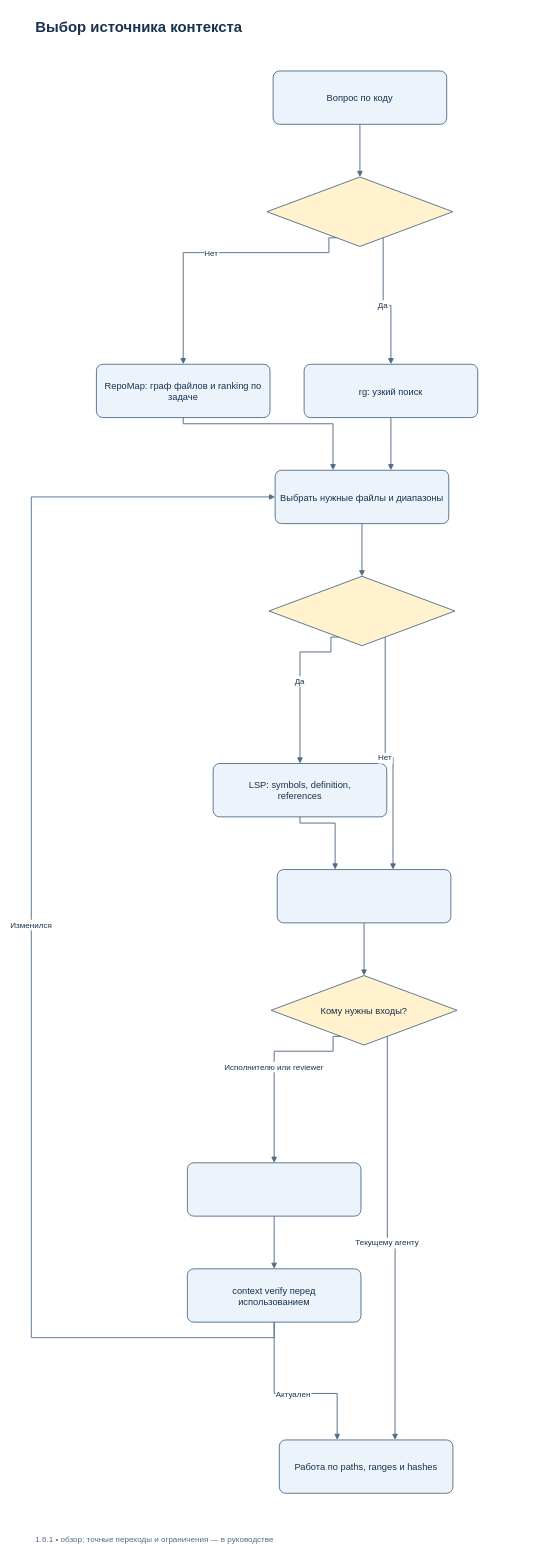
Some shapes in this 553 by 1559 pixel diagram are drawn without their labels. Here are the shapes that lost their labels. From the top down, the centre of each, then its label:
At [359,211]: "Известно точное имя или место?".
At [361,611]: "Нужна семантика символа?".
At [364,896]: "context read: ограниченная выдержка".
At [274,1189]: "context pack: явный scope и omissions".
